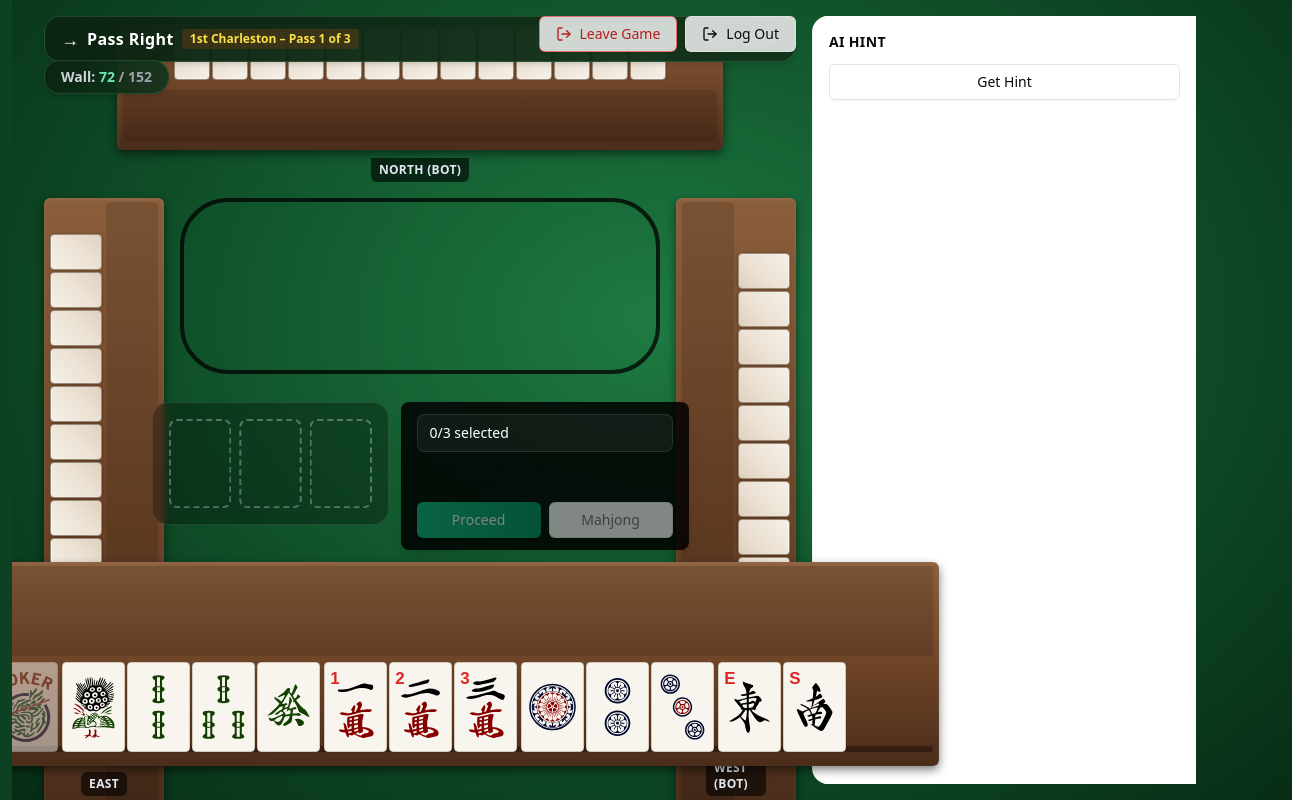
Scenario: Charleston Standard Pass: FirstRight › allows selecting 3 tiles and enables Pass button
This screenshot has width=1292, height=800.
Click the button named "1 Bam" at (93, 707), box [62,662,124,752]
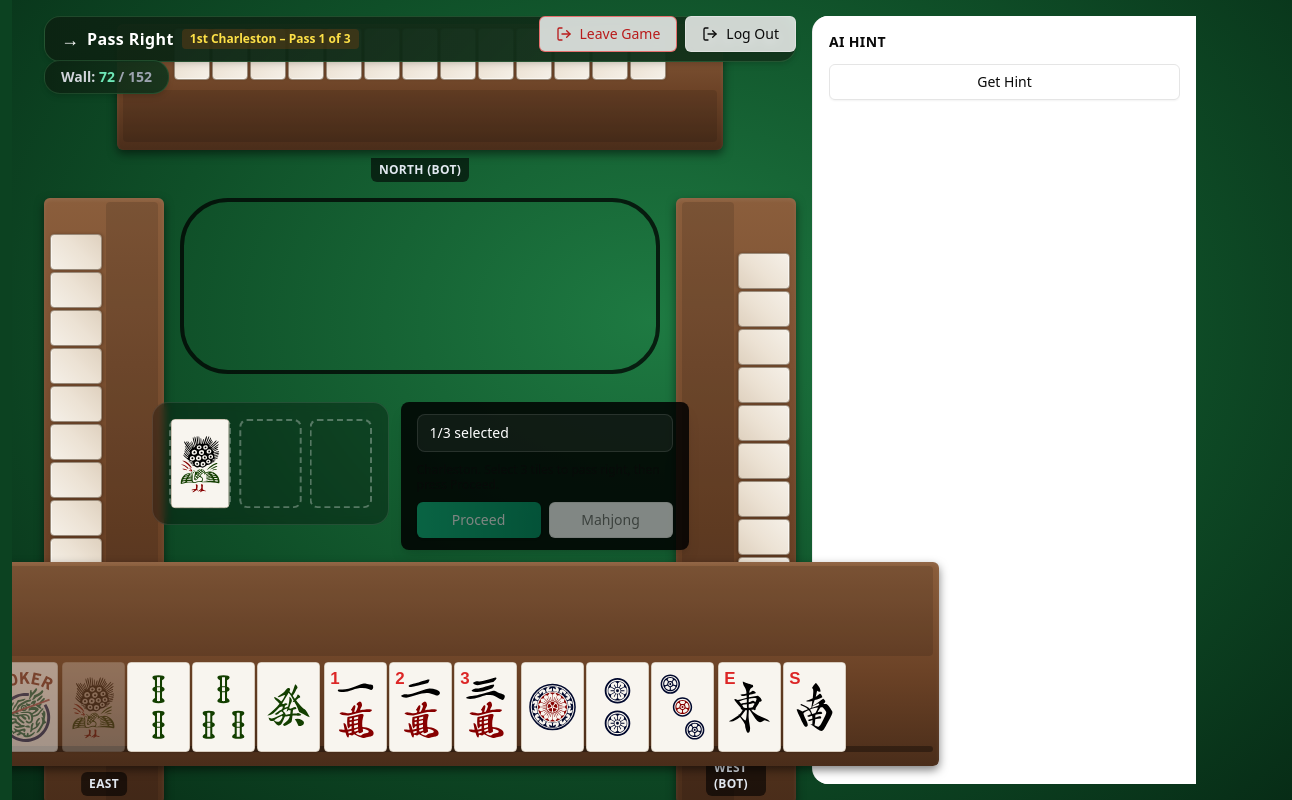
Click the button named "2 Bam" at (158, 707), box [126,662,190,752]
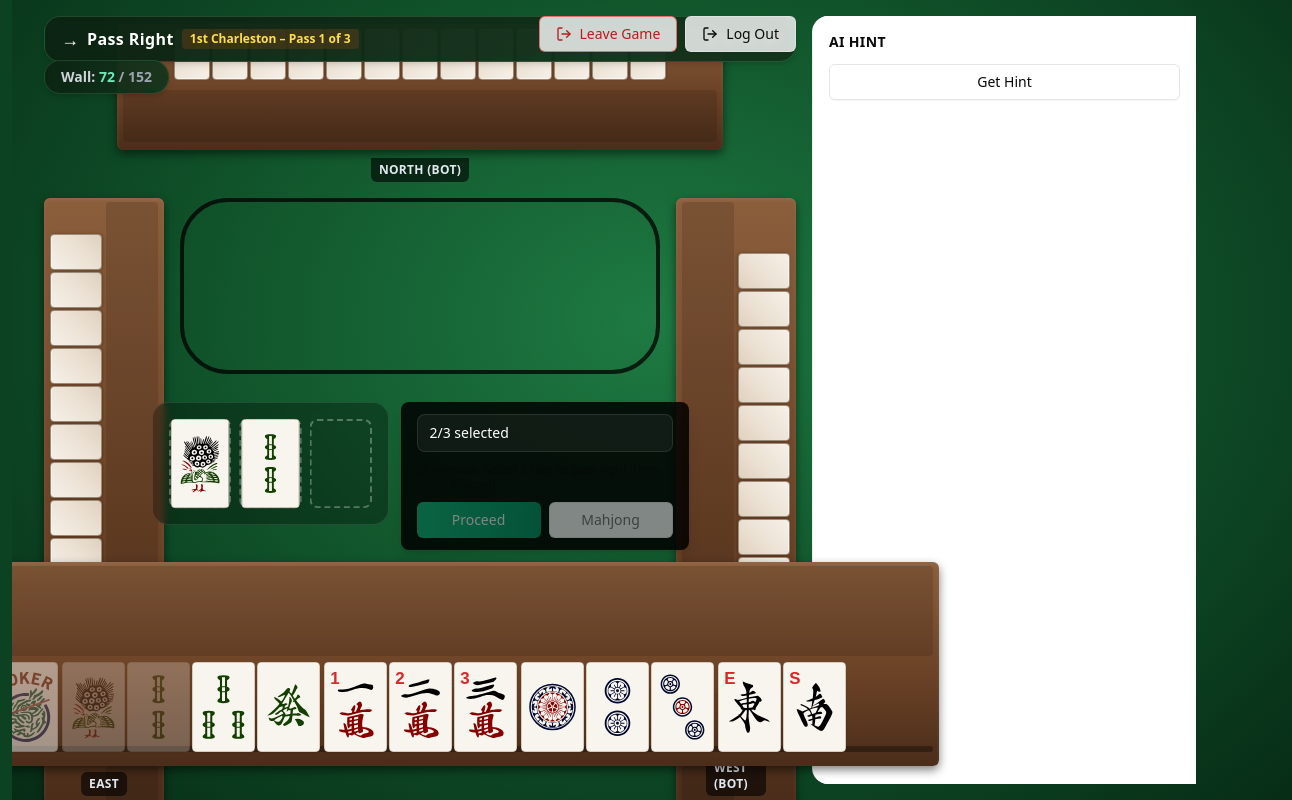
Click the button named "3 Bam" at (223, 707), box [192,662,254,752]
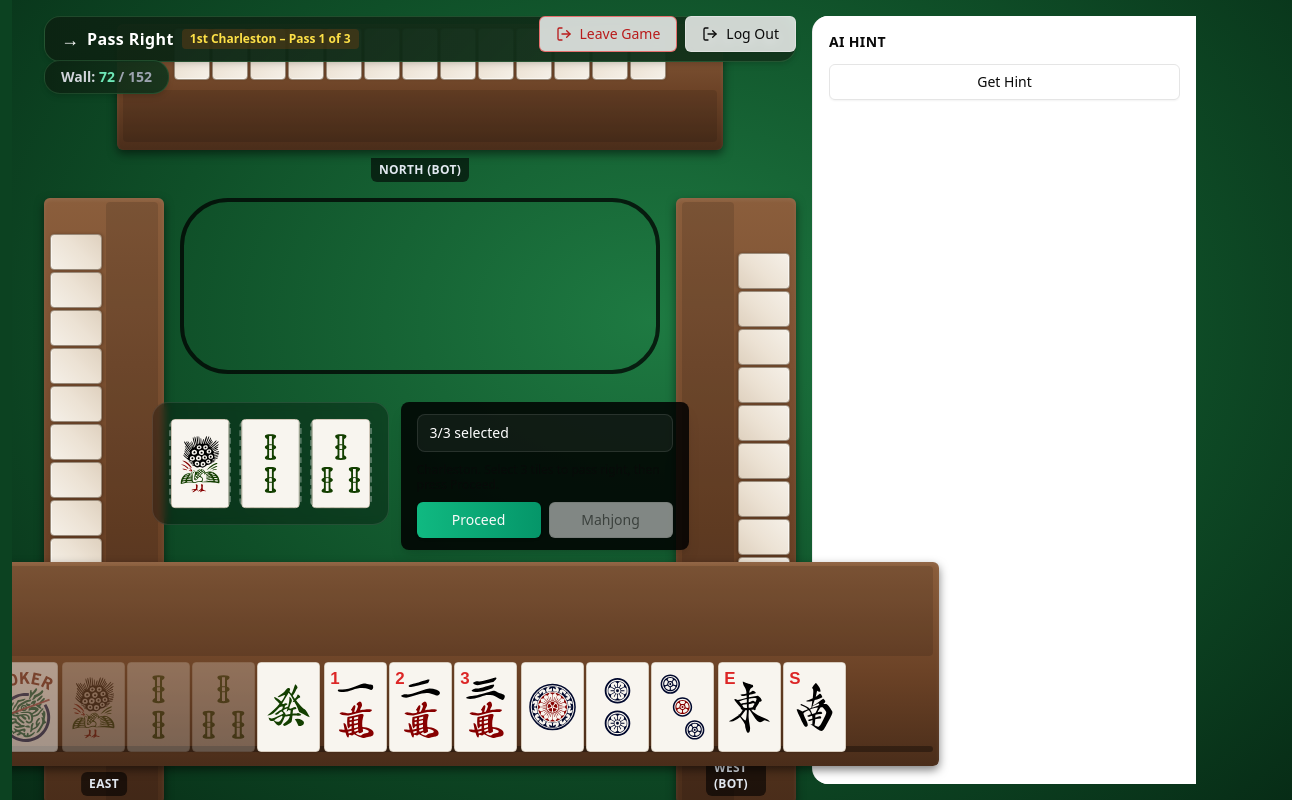
Now the text with test id "selection-counter" shows "3/3", box [430,423,509,442]
Now the button with test id "proceed-button" is enabled, box [416,502,540,538]
